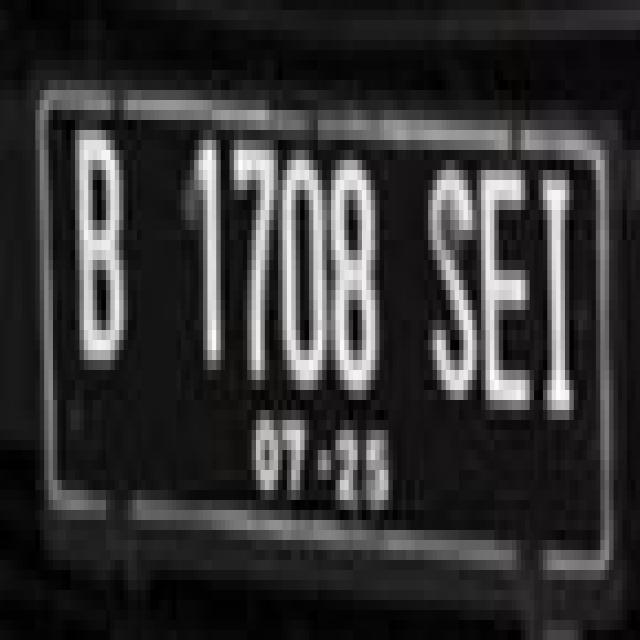0: (279, 138, 327, 394)
1: (187, 132, 227, 375)
7: (225, 134, 279, 391)
8: (327, 143, 382, 397)
B: (69, 117, 130, 376)
E: (477, 156, 536, 419)
I: (537, 159, 582, 426)
S: (424, 154, 482, 412)
